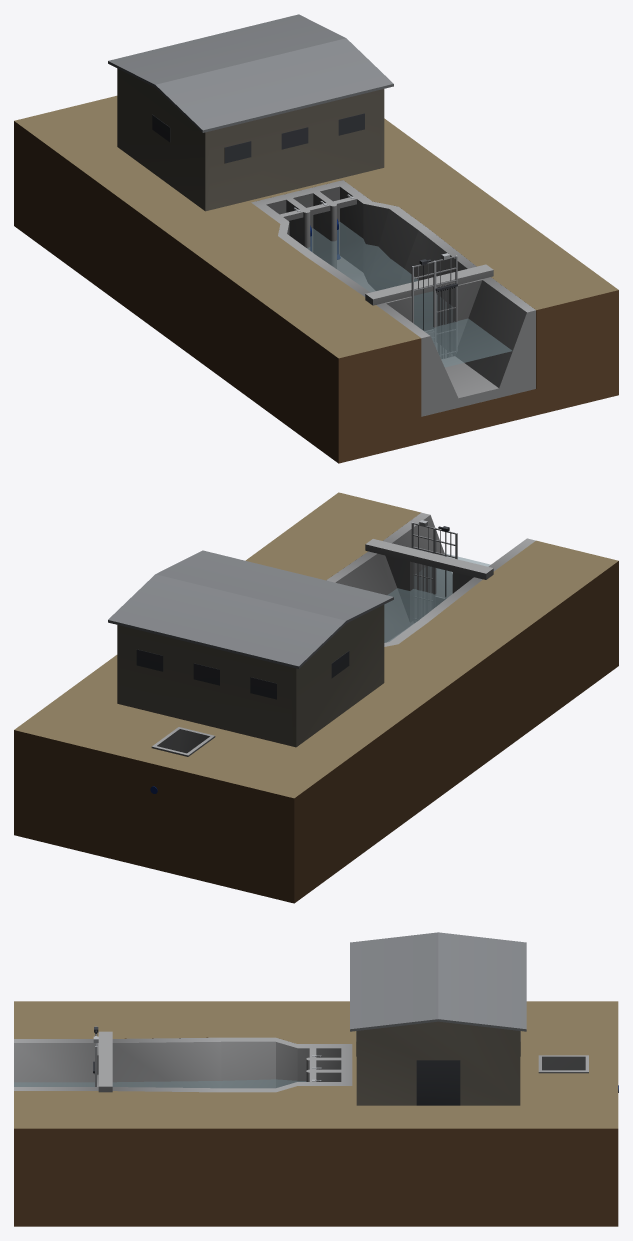
3 views of the same model, one above another, from view 1: azimuth 30°, elevation 25°; view 2: azimuth 150°, elevation 25°; view 3: azimuth 270°, elevation 25° (orthographic). The views are drawn at different scales.
Parts seen in each view (by area): view 1: STATIC__SOIL, STATIC__CIVIL, STATIC__BLD-ROOF, STATIC__BLD-WALL-S, STATIC__BLD-WALL-W, BASIN-01, RACK-01__RACK__BARS, STATIC__BLD-WALL-S__WIN; view 2: STATIC__SOIL, STATIC__BLD-ROOF, STATIC__BLD-WALL-N, STATIC__CIVIL, STATIC__BLD-WALL-W, BASIN-01, RACK-01__RACK__BARS, STATIC__BLD-WALL-N__WIN, STATIC__FM-PIT; view 3: STATIC__SOIL, STATIC__CIVIL, STATIC__BLD-ROOF, STATIC__BLD-WALL-E, STATIC__BLD-WALL-E__WIN, BASIN-01, STATIC__FM-PIT.
Boxes of the visible parts, <box> form: STATIC__SOIL: <box>14,95,618,463</box>; STATIC__CIVIL: <box>251,180,535,416</box>; STATIC__BLD-ROOF: <box>108,14,393,132</box>; STATIC__BLD-WALL-S: <box>209,90,380,210</box>; STATIC__BLD-WALL-W: <box>117,68,209,211</box>; BASIN-01: <box>307,222,511,367</box>; RACK-01__RACK__BARS: <box>434,253,457,358</box>; STATIC__BLD-WALL-S__WIN: <box>224,113,364,163</box>; STATIC__SOIL: <box>14,492,618,903</box>; STATIC__BLD-ROOF: <box>108,550,393,668</box>; STATIC__BLD-WALL-N: <box>121,626,292,746</box>; STATIC__CIVIL: <box>326,512,535,646</box>; STATIC__BLD-WALL-W: <box>292,605,384,747</box>; BASIN-01: <box>384,553,490,642</box>; RACK-01__RACK__BARS: <box>411,520,434,622</box>; STATIC__BLD-WALL-N__WIN: <box>136,649,276,699</box>; STATIC__FM-PIT: <box>151,727,215,756</box>; STATIC__SOIL: <box>14,1001,618,1226</box>; STATIC__CIVIL: <box>14,1031,352,1092</box>; STATIC__BLD-ROOF: <box>350,932,526,1031</box>; STATIC__BLD-WALL-E: <box>356,1021,520,1105</box>; STATIC__BLD-WALL-E__WIN: <box>416,1060,460,1105</box>; BASIN-01: <box>14,1079,306,1088</box>; STATIC__FM-PIT: <box>538,1055,588,1073</box>.
Size of the model in its own units: 27.62 by 18.93 by 55.45.
